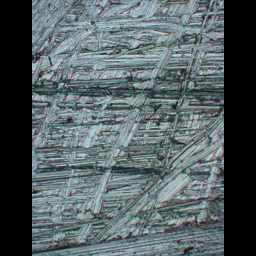d: (32, 0, 223, 255)
